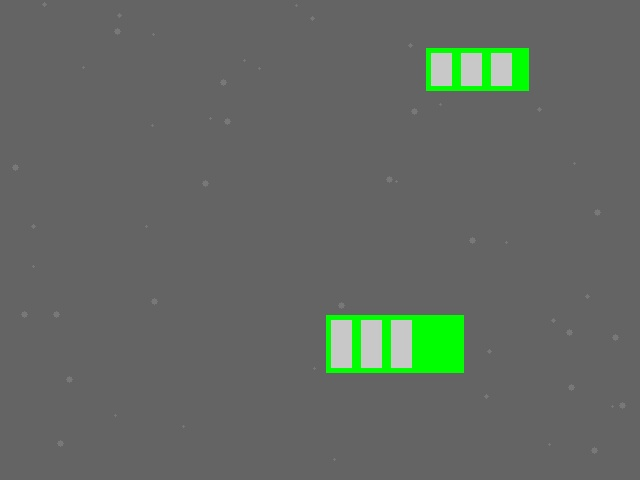bus: (326, 315, 463, 372), (426, 48, 528, 90)
